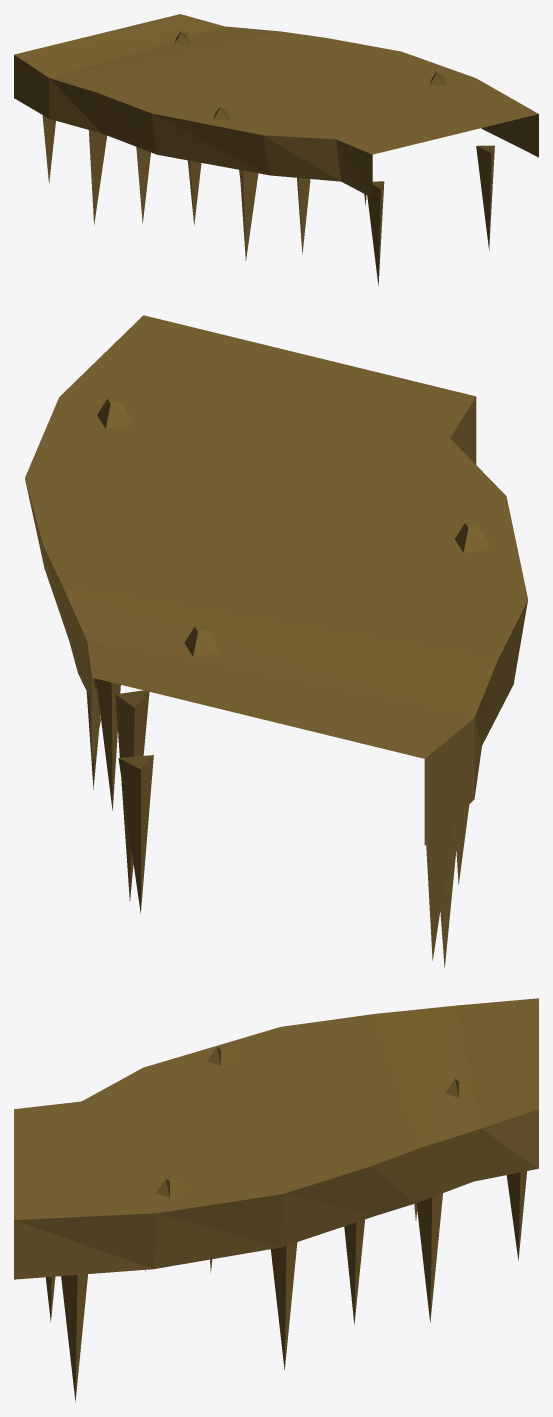
The model's file is obj_bridge_bend_right_0.obj.
3 views of the same model, one above another, from view 1: azimuth 30°, elevation 25°; view 2: azimuth 150°, elevation 25°; view 3: azimuth 270°, elevation 25° (orthographic). The views are drawn at different scales.
Size of the model in its own units: 2 by 0.8984 by 2.
